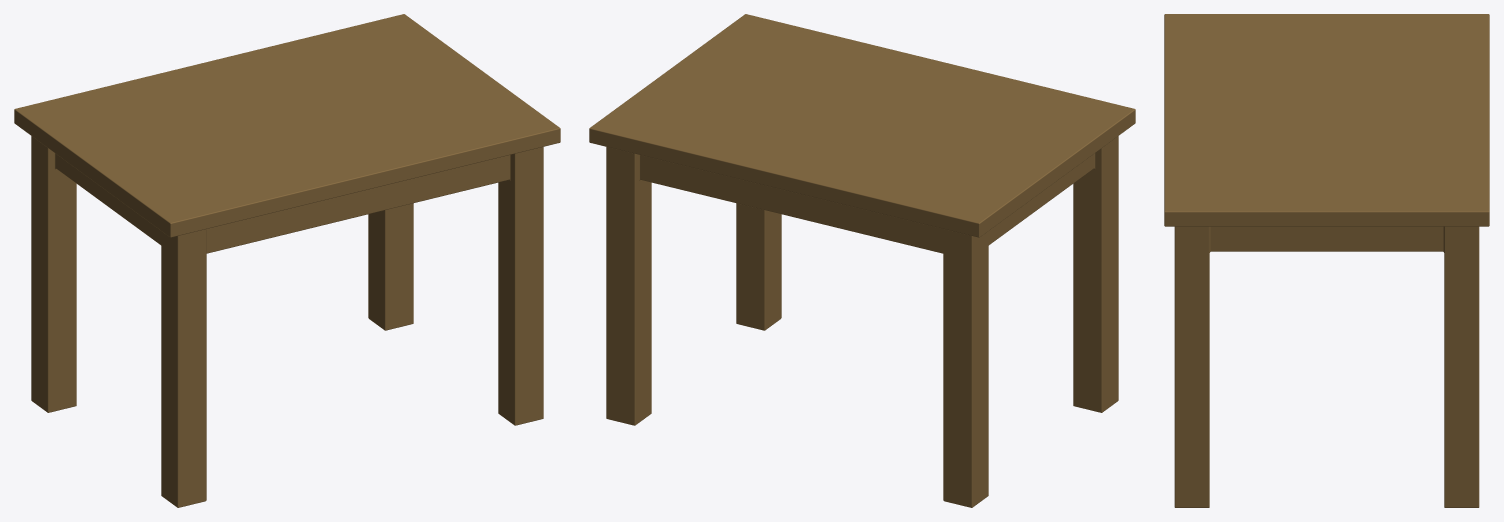
File: Table.fbx
3 renders of one model, left to right at view 1: azimuth 30°, elevation 25°; view 2: azimuth 150°, elevation 25°; view 3: azimuth 270°, elevation 25°, orthographic. The views are drawn at different scales.
Parts seen in each view (by area): view 1: Table Reference; view 2: Table Reference; view 3: Table Reference.
Part boxes in pixels (bbox=[...]): Table Reference: bbox=[14, 14, 560, 507]; Table Reference: bbox=[589, 14, 1135, 507]; Table Reference: bbox=[1164, 14, 1489, 507].
Size of the model in its own units: 118 by 83.96 by 81.7.
